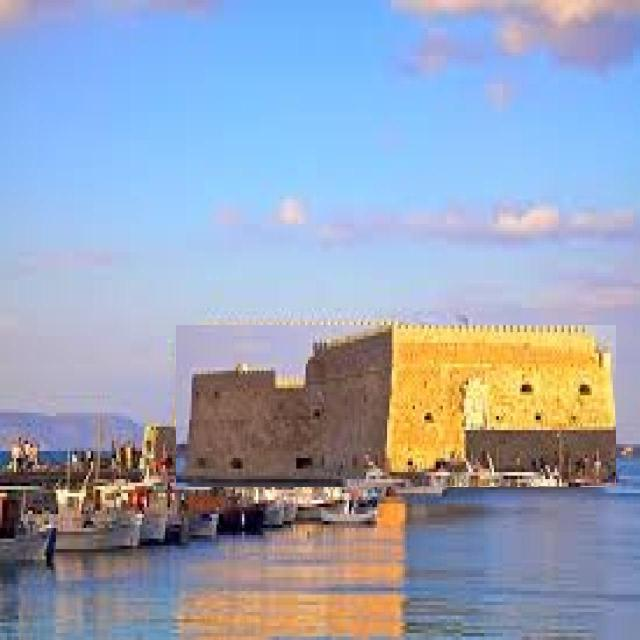Kules: (177, 326, 617, 488)
